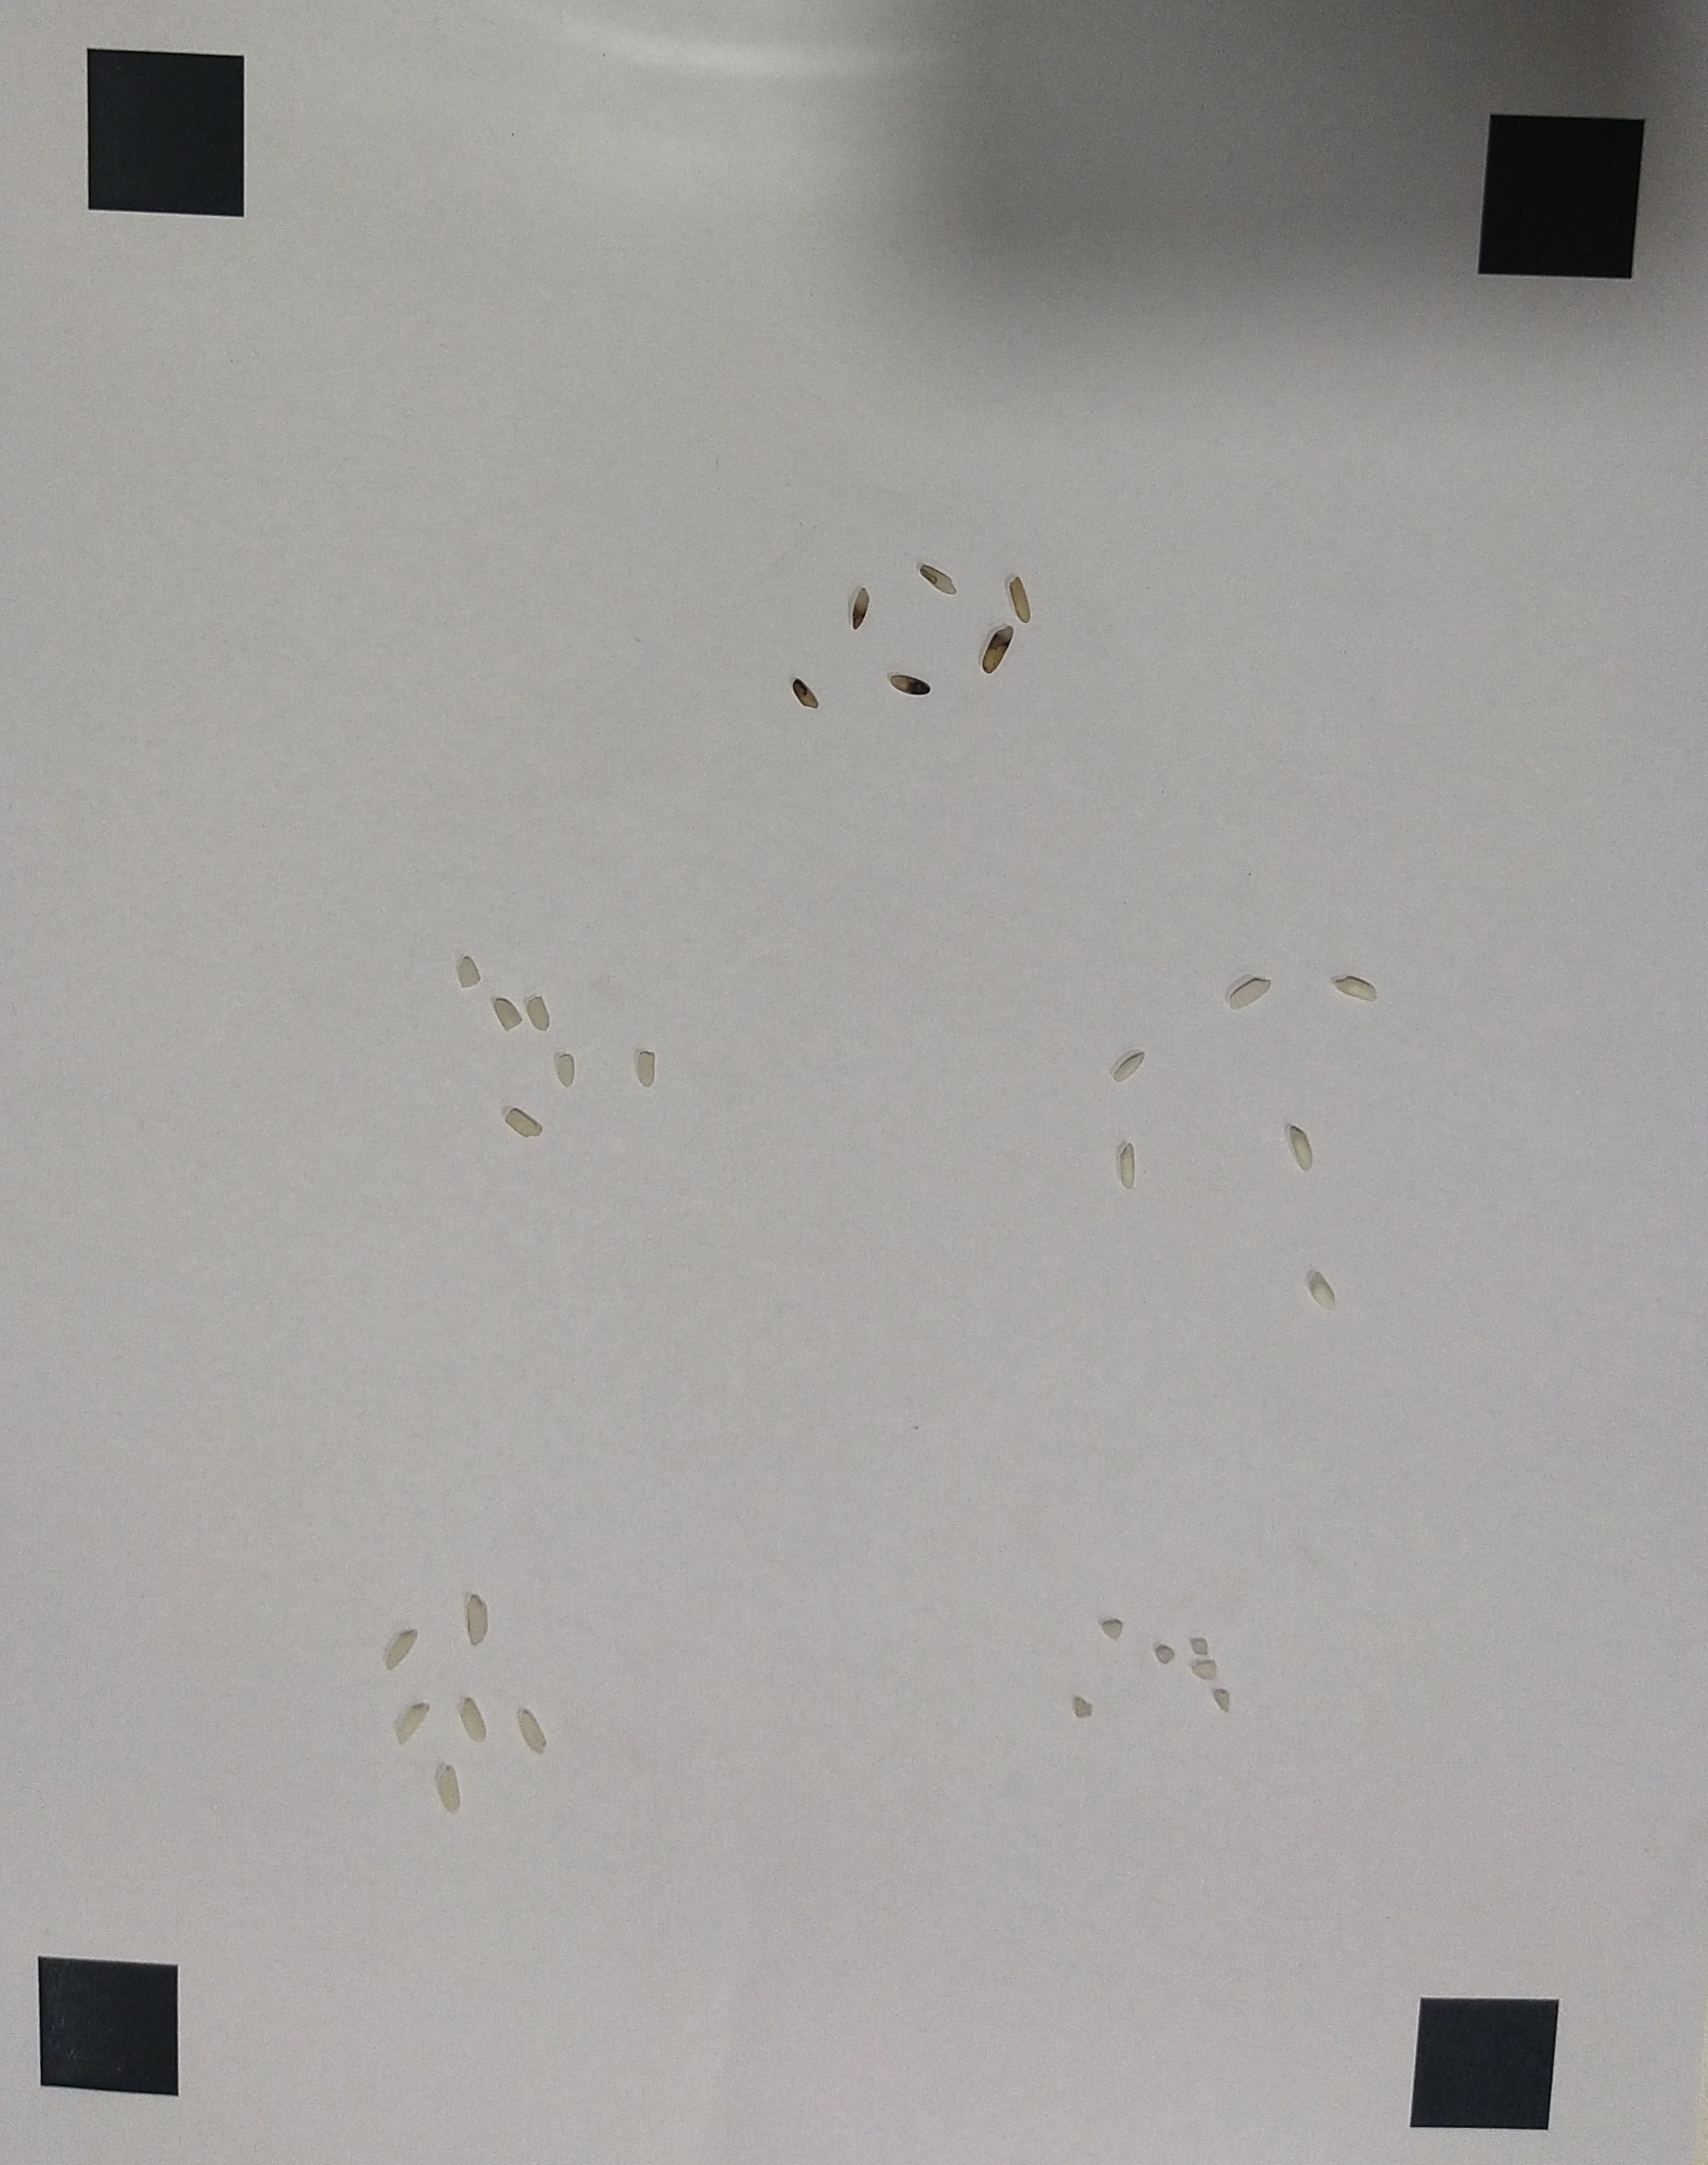broken: (1070, 1696, 1093, 1719), (1191, 1659, 1216, 1680), (1212, 1687, 1232, 1713), (1156, 1643, 1176, 1666), (1102, 1618, 1123, 1638), (1190, 1636, 1209, 1654)
chalky: (1227, 977, 1274, 1007), (1334, 974, 1381, 1003), (1288, 1125, 1314, 1170), (1114, 1142, 1140, 1184), (1114, 1049, 1146, 1081), (1309, 1271, 1334, 1307)
damage: (503, 1105, 541, 1139), (494, 995, 522, 1035), (527, 993, 552, 1032), (459, 952, 480, 993), (636, 1053, 657, 1086), (557, 1049, 575, 1086)
discolor: (982, 626, 1014, 675), (1009, 575, 1035, 622), (921, 564, 958, 594), (792, 677, 821, 708), (850, 587, 870, 631), (889, 675, 931, 694)
good: (513, 1705, 548, 1756), (392, 1701, 431, 1743), (436, 1761, 464, 1817), (455, 1698, 489, 1743), (466, 1592, 490, 1648), (385, 1629, 418, 1668)
